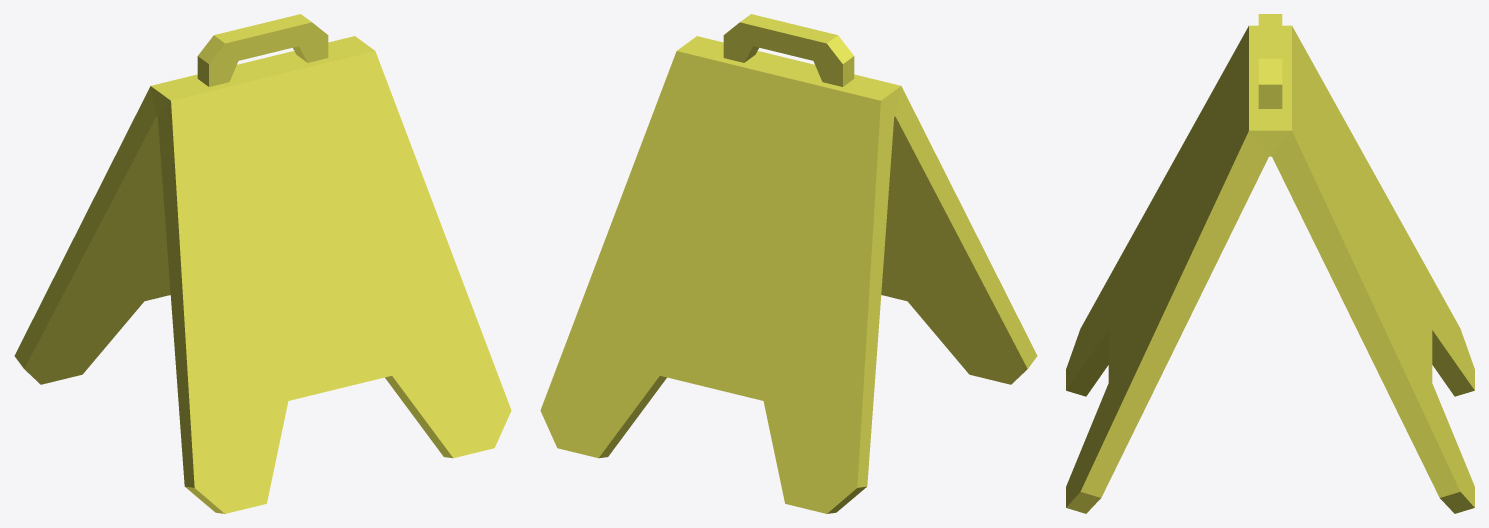
Rendered from wet_floor_sign.fbx.
3 renders of one model, left to right at view 1: azimuth 30°, elevation 25°; view 2: azimuth 150°, elevation 25°; view 3: azimuth 270°, elevation 25°, orthographic. The views are drawn at different scales.
Visible parts, largest first — view 1: Cube; view 2: Cube; view 3: Cube.
Boxes of the visible parts, x1,y1,x2,y2 form: Cube: (14, 14, 511, 513); Cube: (540, 14, 1037, 513); Cube: (1066, 14, 1474, 513).
Size of the model in its own units: 194 by 227 by 206.
